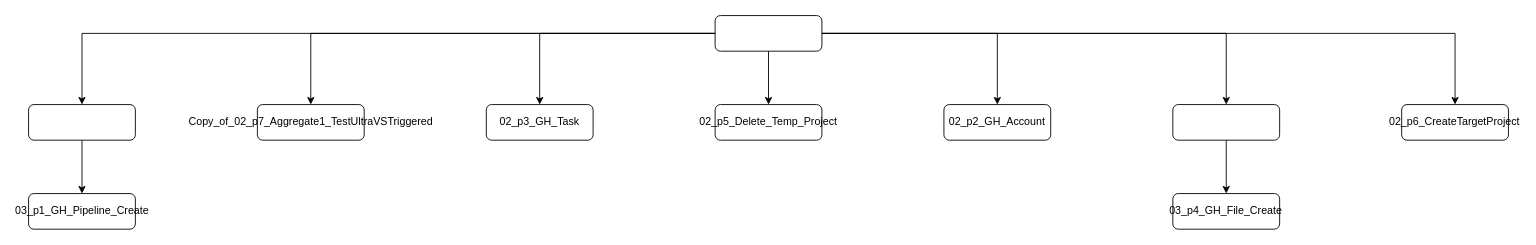
The diagram is 1536 pixels wide and 245 high, and some of its shapes have lost their labels. Here are the shapes that lost their labels. From the top down, the box of each, then its label:
(714, 15, 822, 51): Copy_of_01_p1_Main_GH_to_SL_TestUltraVSTriggered
(28, 104, 135, 140): 02_p1_GH_Pipeline
(1172, 104, 1280, 140): 02_p4_GH_File
